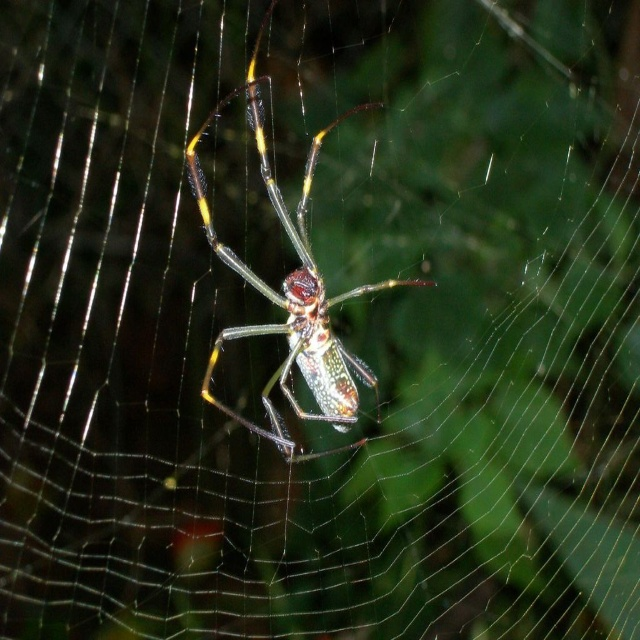Spider: (186, 0, 437, 464)
